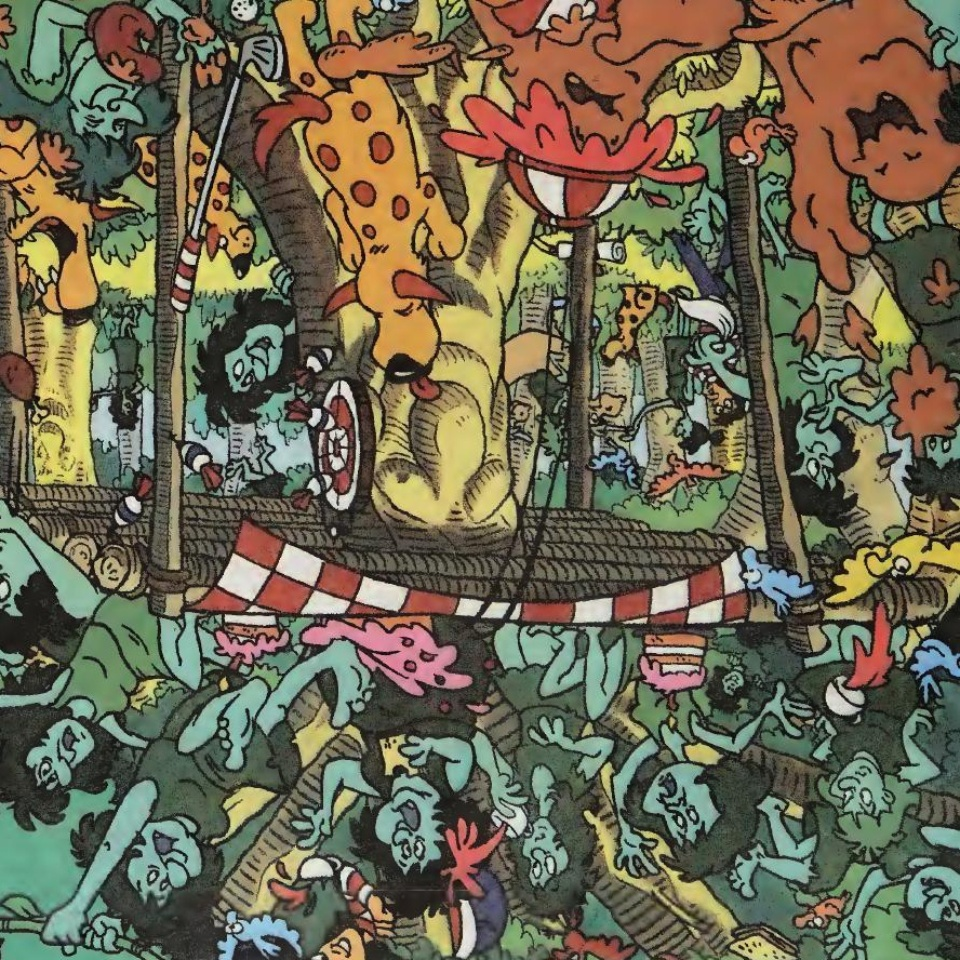waldo: (690, 355, 751, 424)
